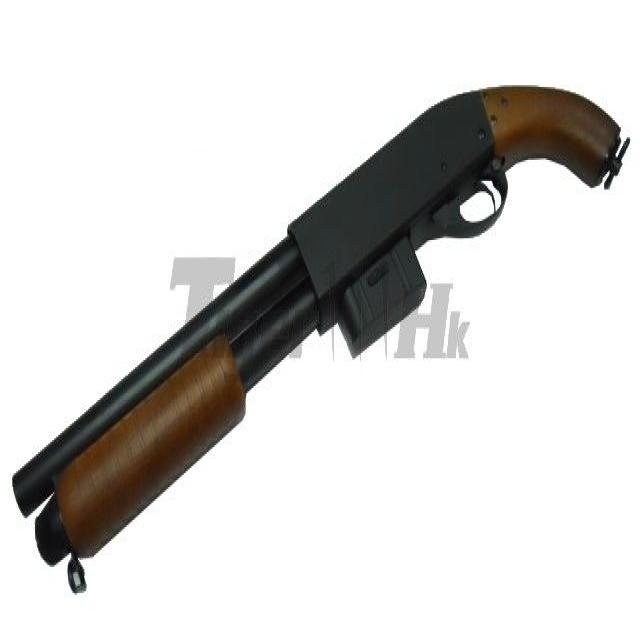ShotGun: (10, 85, 631, 597)
